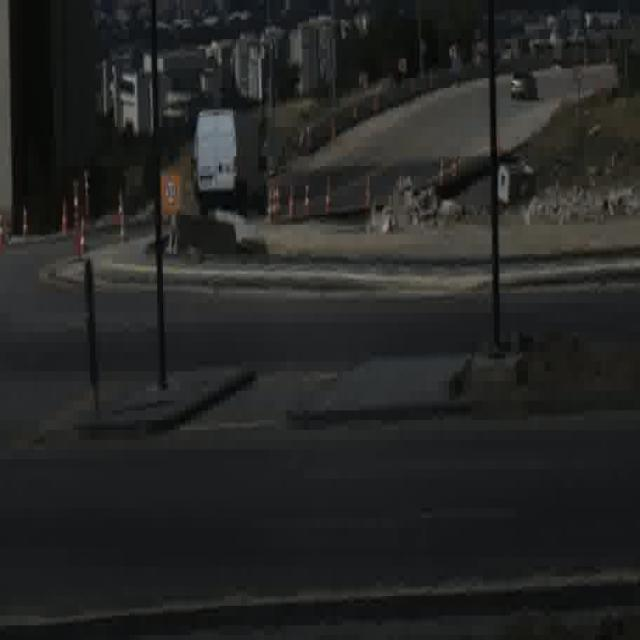Car: (195, 109, 267, 216), (510, 66, 539, 99)
